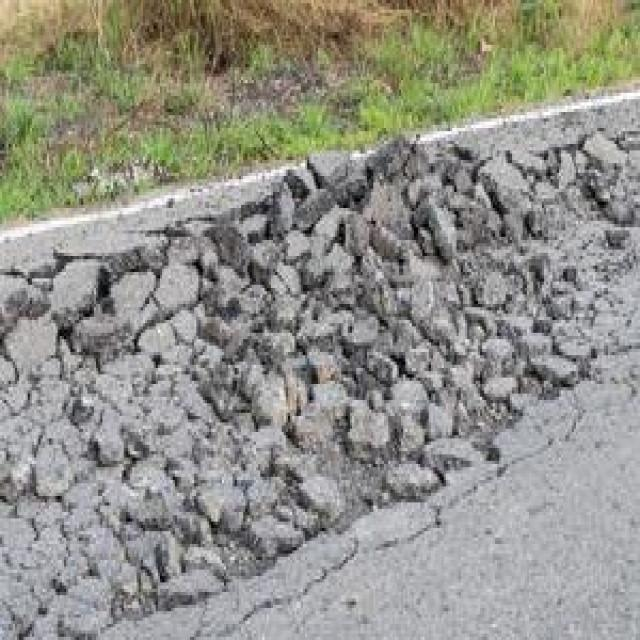road collapse: (0, 134, 640, 625)
